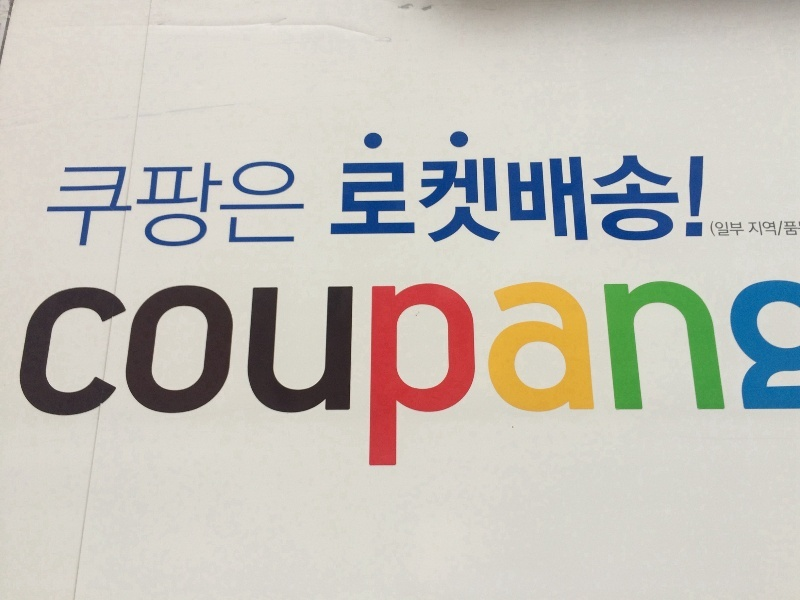text: (33, 279, 48, 479), (49, 279, 64, 479), (65, 279, 80, 479), (81, 279, 96, 479), (97, 279, 112, 479), (113, 279, 128, 479), (129, 279, 144, 479), (145, 279, 160, 479), (161, 279, 176, 479), (177, 279, 192, 479), (193, 279, 208, 479), (209, 279, 224, 479), (225, 279, 240, 479), (241, 279, 256, 479), (257, 279, 272, 479), (273, 279, 288, 479), (289, 279, 304, 479), (305, 279, 320, 479), (321, 279, 336, 479), (337, 279, 352, 479), (353, 279, 368, 479), (369, 279, 384, 479), (385, 279, 400, 479), (401, 279, 416, 479), (417, 279, 432, 479), (433, 279, 448, 479), (449, 279, 464, 479), (465, 279, 480, 479), (481, 279, 496, 479), (497, 279, 512, 479), (513, 279, 528, 479), (529, 279, 544, 479), (545, 279, 560, 479), (561, 279, 576, 479), (577, 279, 592, 479), (593, 279, 608, 479), (609, 279, 624, 479), (625, 279, 640, 479), (641, 279, 656, 479), (657, 279, 672, 479), (673, 279, 688, 479), (689, 279, 704, 479), (705, 279, 720, 479), (721, 279, 736, 479), (737, 279, 752, 479), (753, 279, 768, 479), (769, 279, 784, 479), (785, 279, 800, 479), (353, 151, 368, 247), (369, 151, 384, 247), (385, 151, 400, 247), (401, 151, 416, 247), (417, 151, 432, 247), (433, 151, 448, 247), (449, 151, 464, 247), (465, 151, 480, 247), (481, 151, 496, 247), (497, 151, 512, 247), (513, 151, 528, 247), (529, 151, 544, 247), (545, 151, 560, 247), (561, 151, 576, 247), (577, 151, 592, 247), (593, 151, 608, 247), (609, 151, 624, 247), (625, 151, 640, 247), (641, 151, 656, 247), (657, 151, 672, 247), (673, 151, 688, 247), (689, 151, 704, 247), (65, 160, 80, 247), (81, 160, 96, 247), (97, 160, 112, 247), (113, 160, 128, 247), (129, 160, 144, 247), (145, 160, 160, 247), (161, 160, 176, 247), (177, 160, 192, 247), (193, 160, 208, 247), (209, 160, 224, 247), (225, 160, 240, 247), (241, 160, 256, 247), (257, 160, 272, 247), (273, 160, 288, 247), (289, 160, 304, 247), (343, 151, 352, 247), (29, 279, 32, 479), (305, 160, 311, 247), (721, 220, 736, 238), (737, 220, 752, 238), (753, 220, 768, 238), (769, 220, 784, 238), (785, 220, 800, 238), (711, 220, 720, 238)
